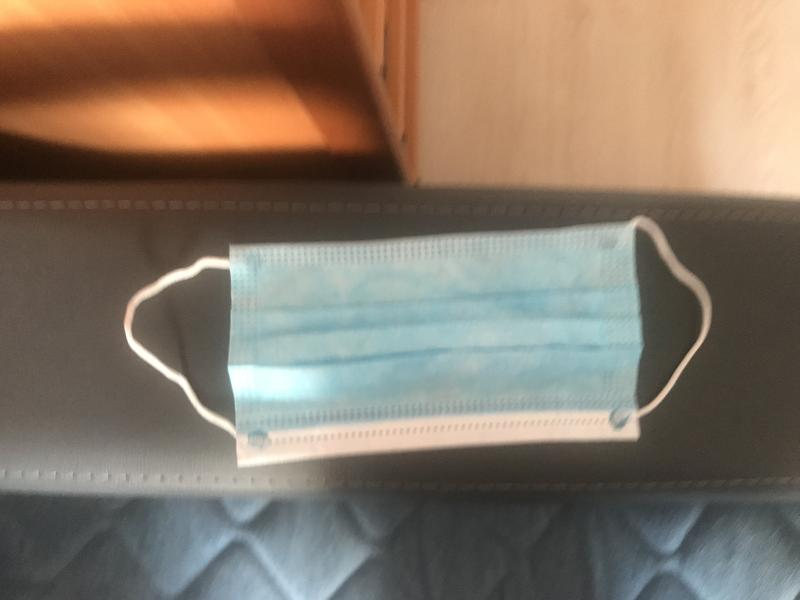medical_mask: (124, 211, 711, 466)
